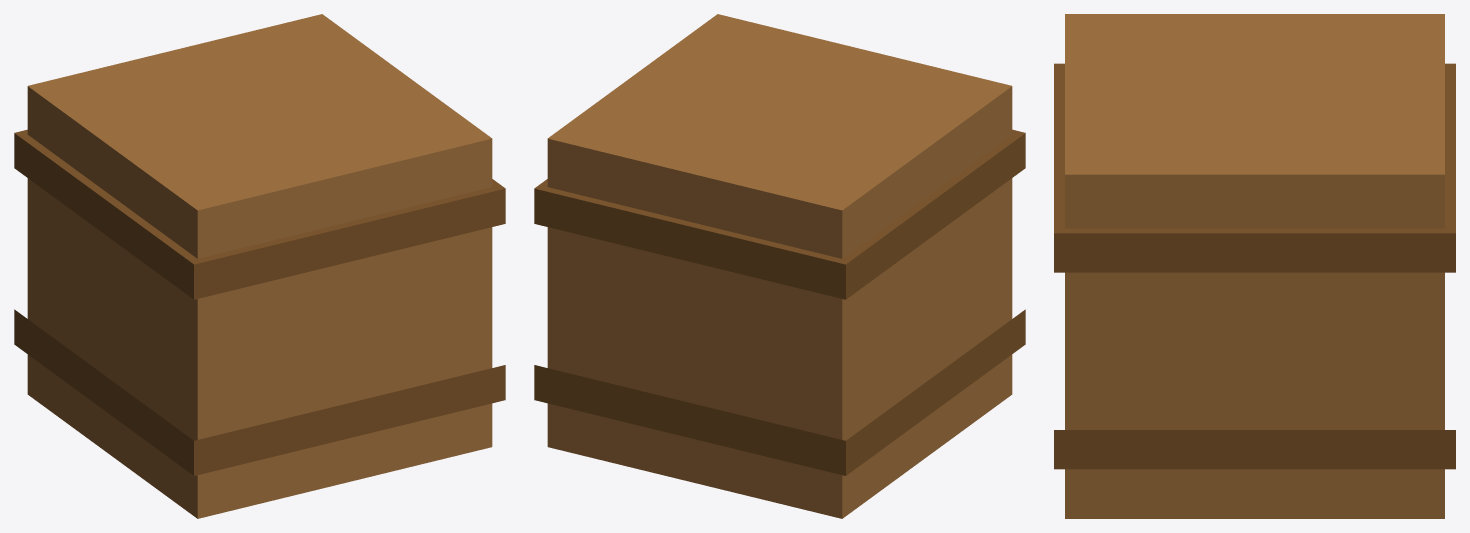
Rendered from crate.glb.
3 views of the same model, side by side, from view 1: azimuth 30°, elevation 25°; view 2: azimuth 150°, elevation 25°; view 3: azimuth 270°, elevation 25° (orthographic). The views are drawn at different scales.
Parts seen in each view (by area): view 1: crate; view 2: crate; view 3: crate.
Part boxes in pixels (x1,y1,x2,y2): crate: (14, 14, 505, 518); crate: (534, 14, 1025, 518); crate: (1054, 14, 1455, 518).
Size of the model in its own units: 0.74 by 0.7 by 0.74.
